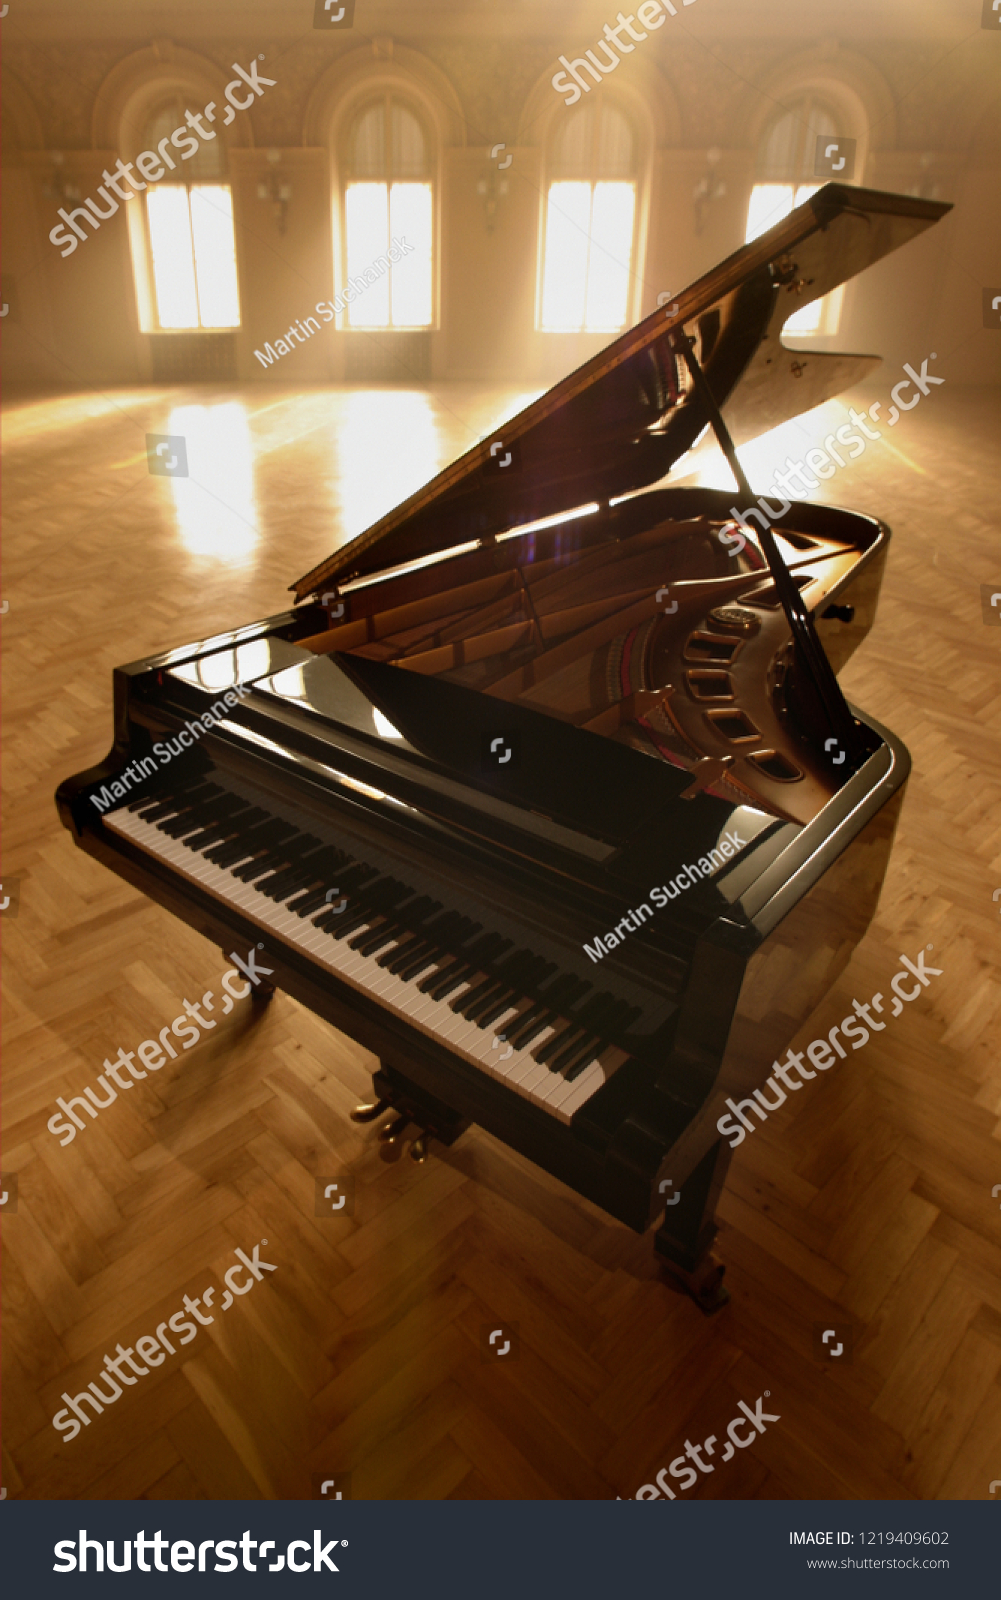Piano: (46, 110, 963, 1446)
